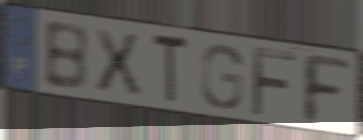B: (41, 21, 90, 94)
F: (299, 50, 354, 128), (249, 43, 300, 120)
G: (199, 42, 245, 112)
T: (151, 30, 190, 107)
X: (91, 26, 145, 98)
